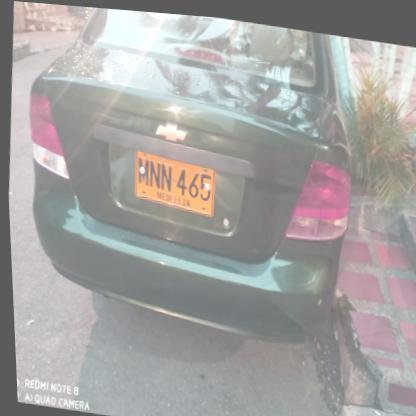placa: (126, 145, 219, 216)
